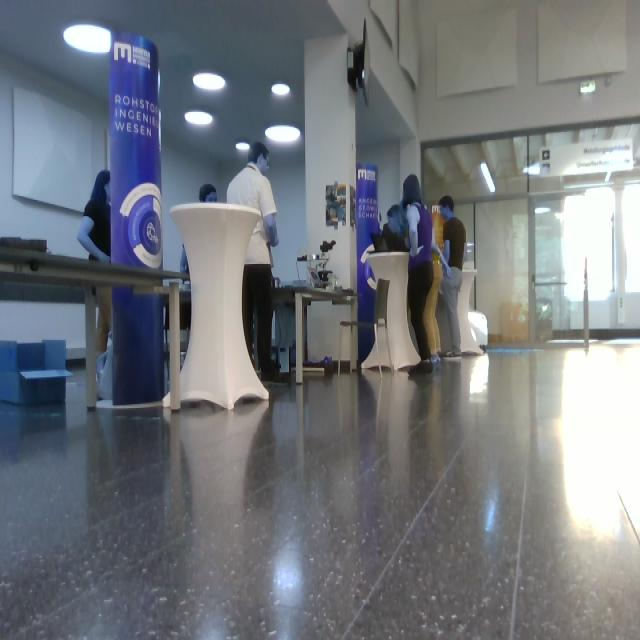door: (475, 197, 530, 345)
light bulb: (63, 23, 112, 55), (265, 125, 301, 144), (193, 72, 226, 92), (481, 161, 496, 193), (185, 111, 213, 127), (523, 161, 541, 176), (272, 82, 291, 96), (579, 80, 596, 94), (236, 141, 251, 150)
person: (227, 143, 284, 383), (401, 174, 435, 376), (77, 171, 113, 355), (438, 196, 467, 358)
pillar: (108, 32, 165, 405), (169, 201, 270, 410)
tiled floor: (1, 337, 639, 638)
